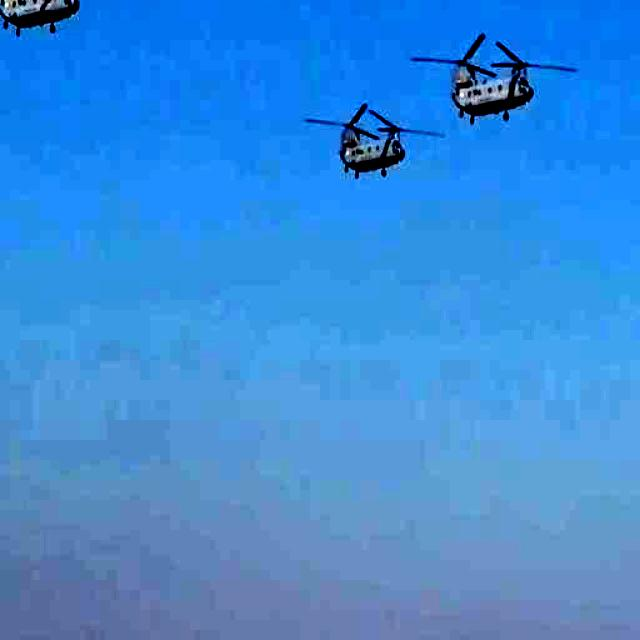drone: (408, 29, 580, 128), (301, 99, 448, 184), (0, 0, 124, 40)
